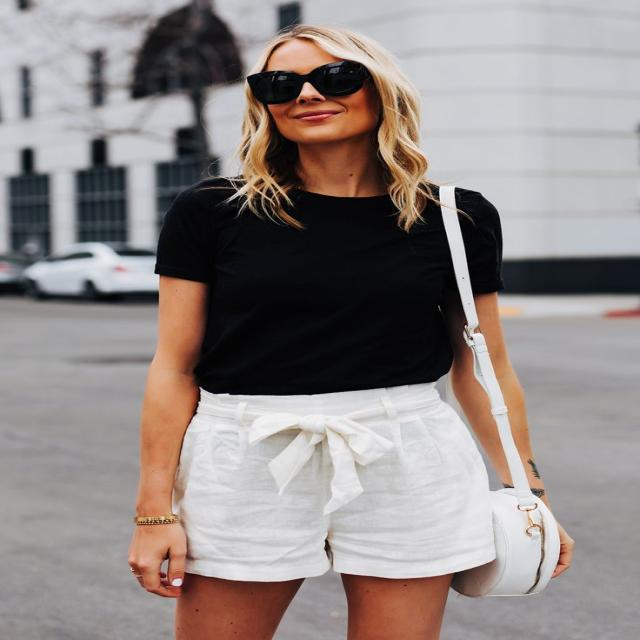shoulder: (162, 174, 504, 255)
